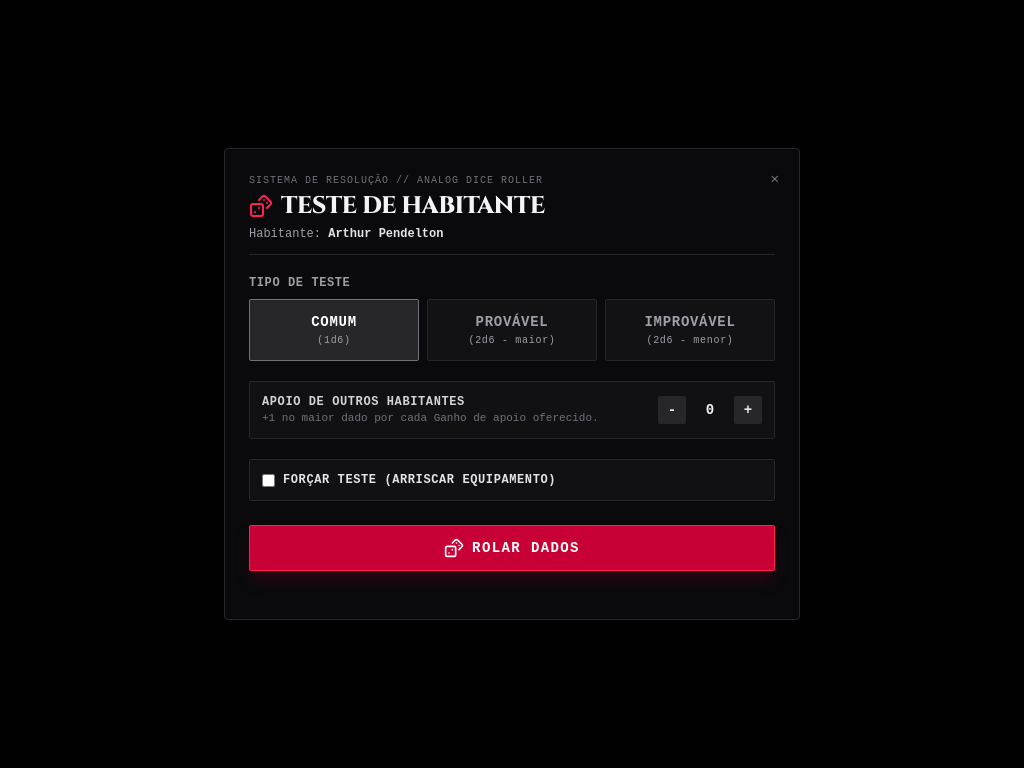
Test case: MissingDiceRollerModal Component › exibe alerta crítico sobre perda permanente de equipamento ao forçar teste
Note: Ativa forçar teste
Step 1. Click the checkbox with test id "checkbox-forcar-teste" → x=268, y=480, box [262, 474, 275, 487]
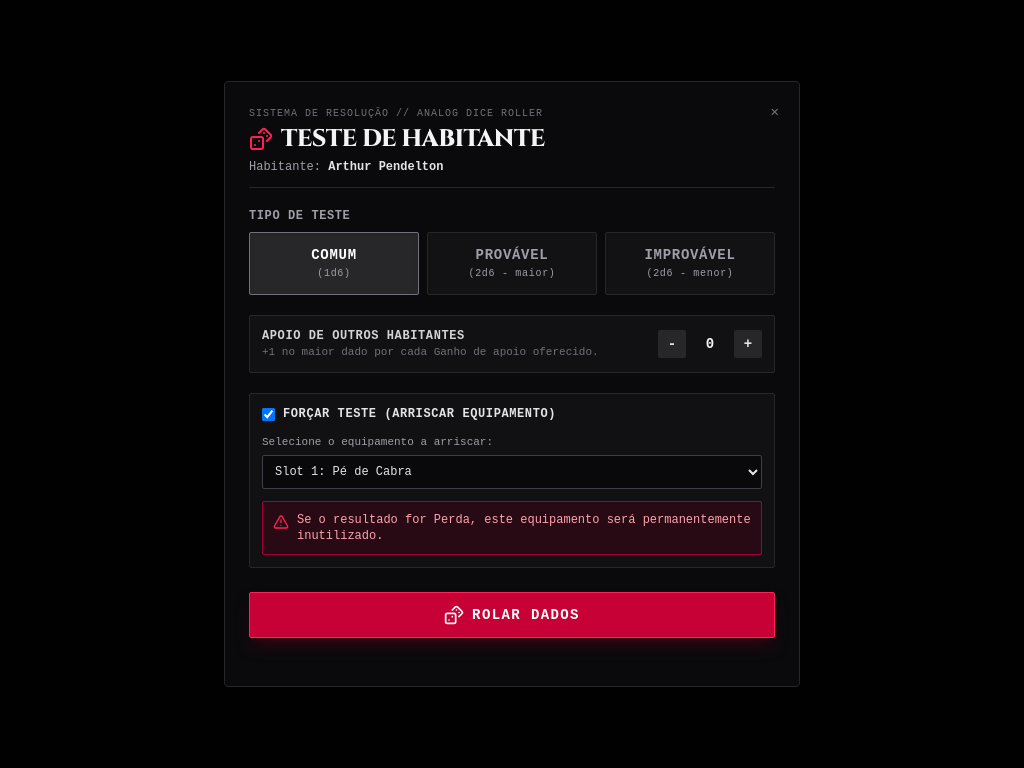
Now the checkbox with test id "checkbox-forcar-teste" is checked, box [262, 408, 275, 421]
Now the element with test id "alerta-forcar-teste" is shown, box [262, 501, 762, 555]
Now the element with test id "alerta-forcar-teste" reads "Se o resultado for Perda, este equipamento será permanentemente inutilizado.", box [297, 513, 751, 543]
